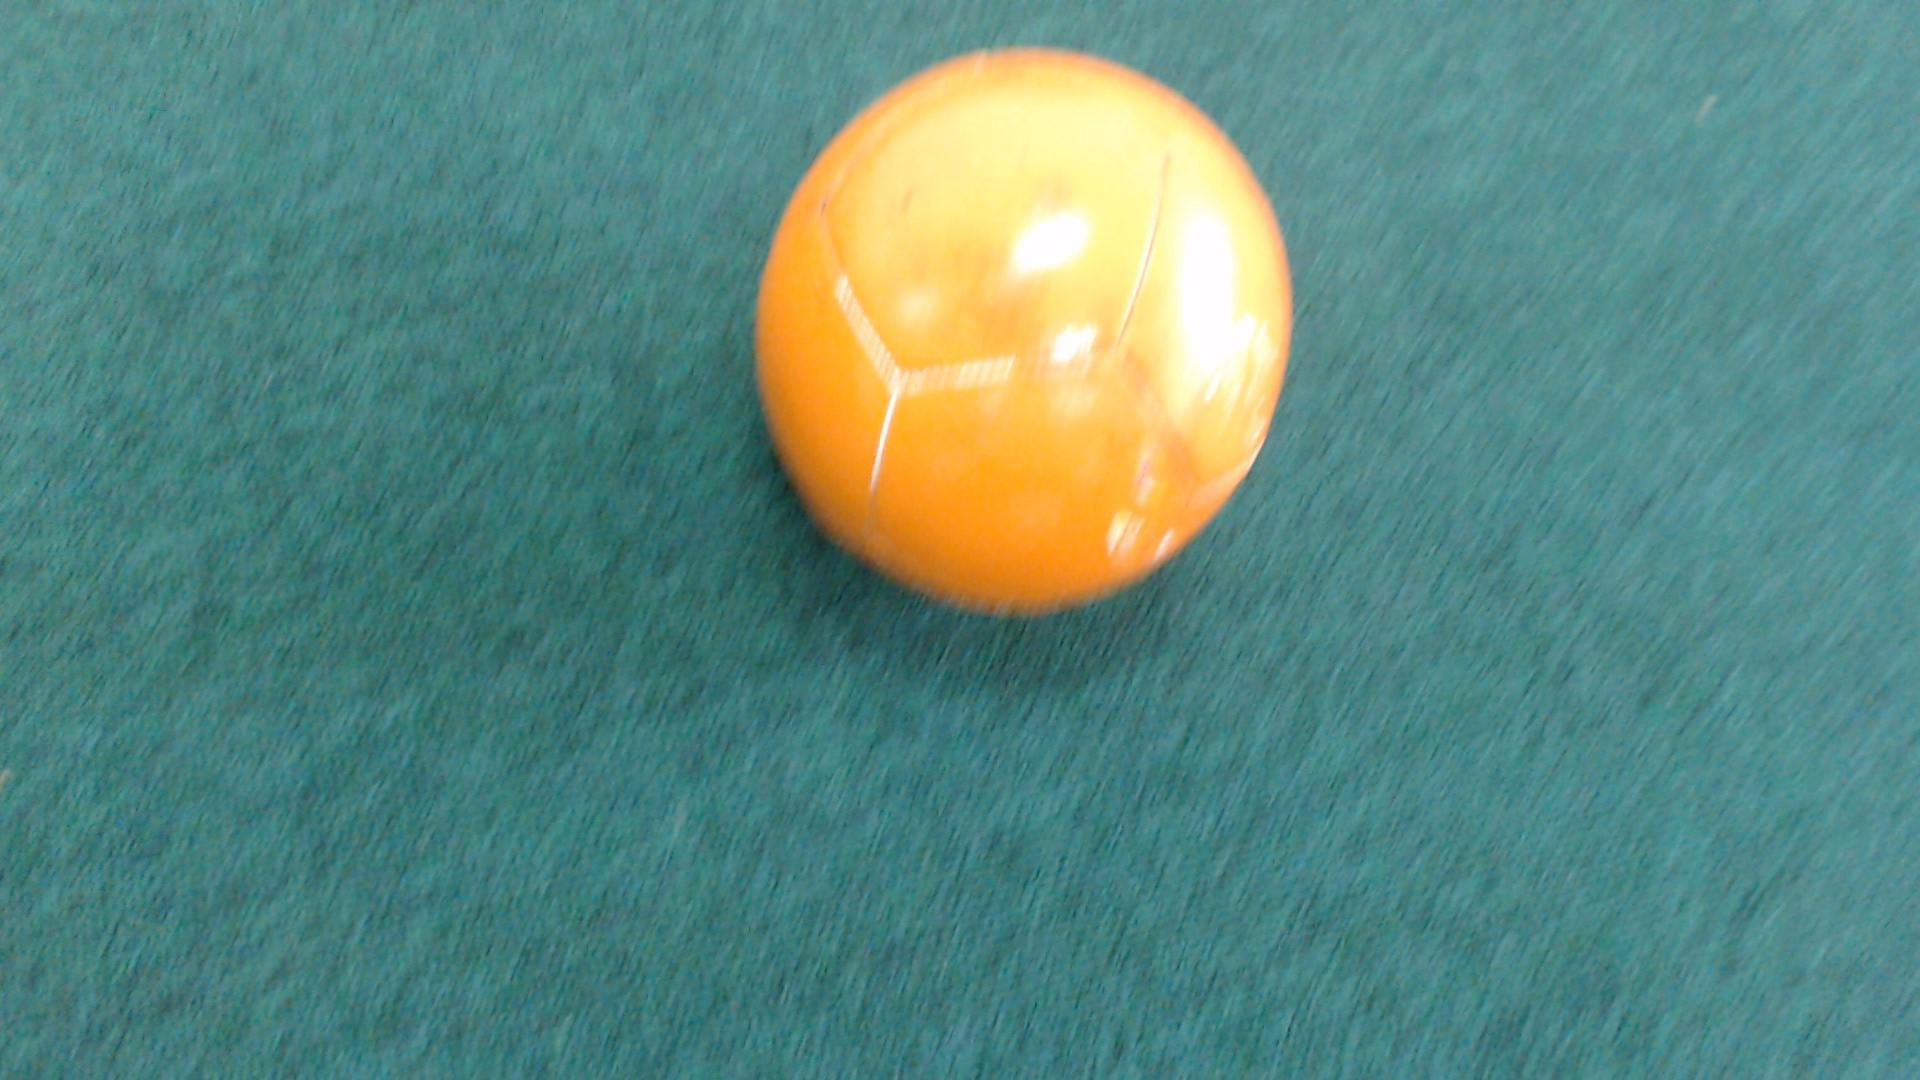bola: (731, 0, 1358, 682)
